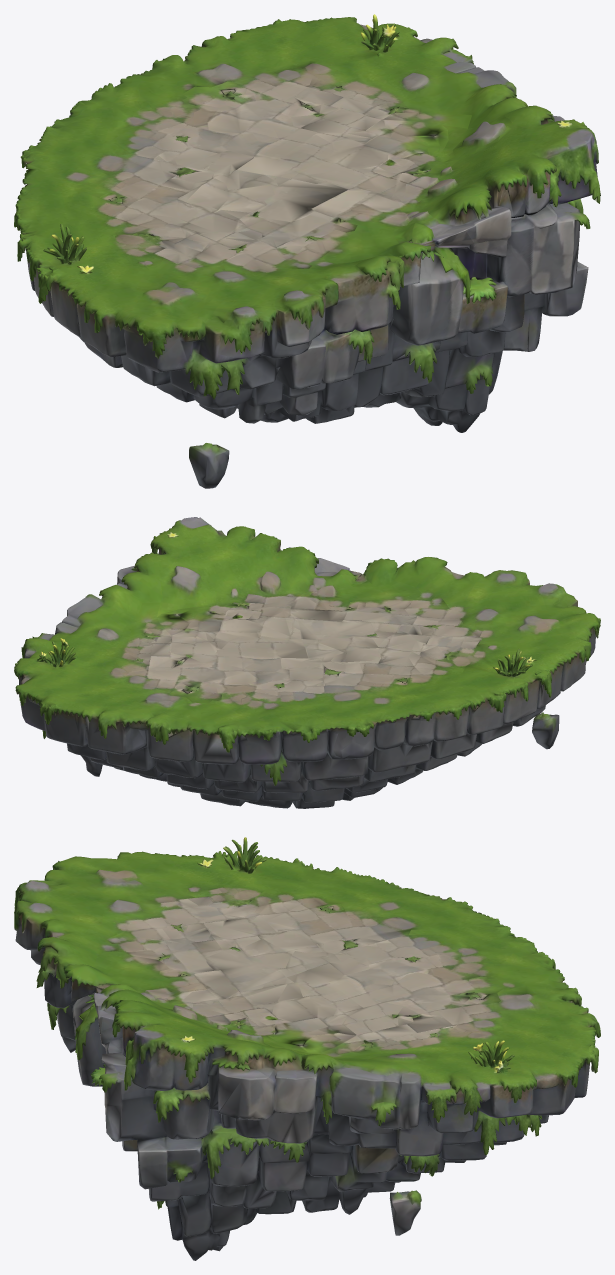
The model's file is island-flat-v2-lite.glb.
The picture shows the model from 3 angles, top to bottom: view 1: azimuth 30°, elevation 25°; view 2: azimuth 150°, elevation 25°; view 3: azimuth 270°, elevation 25°; orthographic projection. The views are drawn at different scales.
Parts seen in each view (by area): view 1: tripo_node_a02264bc-14dd-4587-8488-bdd92dcfaa37; view 2: tripo_node_a02264bc-14dd-4587-8488-bdd92dcfaa37; view 3: tripo_node_a02264bc-14dd-4587-8488-bdd92dcfaa37.
Part boxes in pixels (x1,y1,x2,y2): tripo_node_a02264bc-14dd-4587-8488-bdd92dcfaa37: [14, 14, 600, 488]; tripo_node_a02264bc-14dd-4587-8488-bdd92dcfaa37: [14, 517, 600, 808]; tripo_node_a02264bc-14dd-4587-8488-bdd92dcfaa37: [14, 837, 600, 1260].
Size of the model in its own units: 4.93 by 2.5 by 4.94.
1 material, 1 textured.
